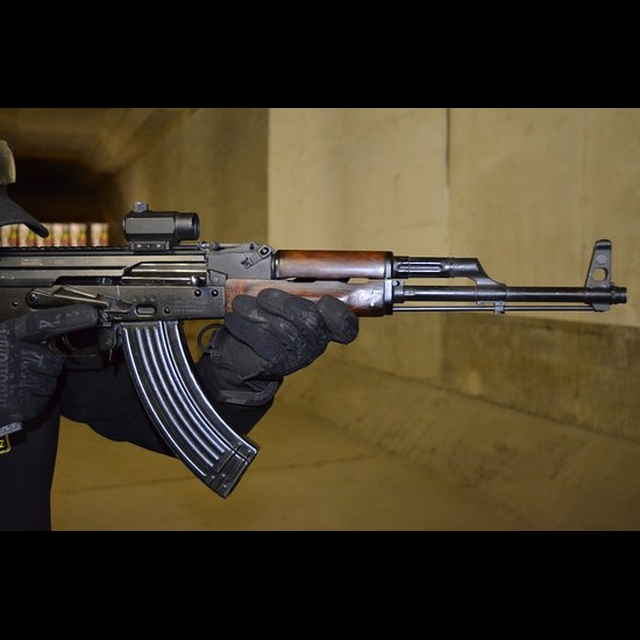AK47: (11, 242, 630, 500)
